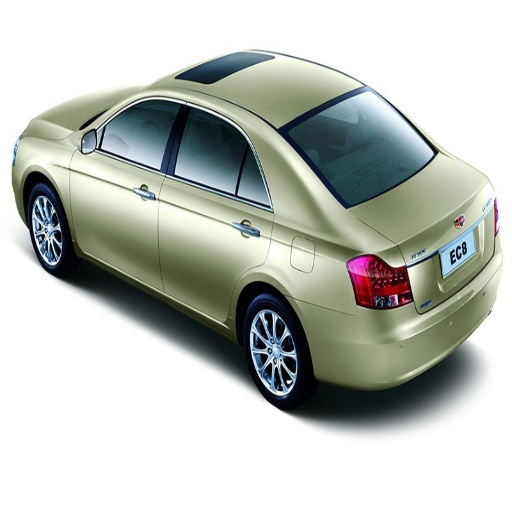back_bumper: (301, 266, 500, 389)
back_glass: (253, 64, 433, 206)
back_left_door: (159, 101, 274, 321)
back_left_light: (347, 248, 411, 307)
